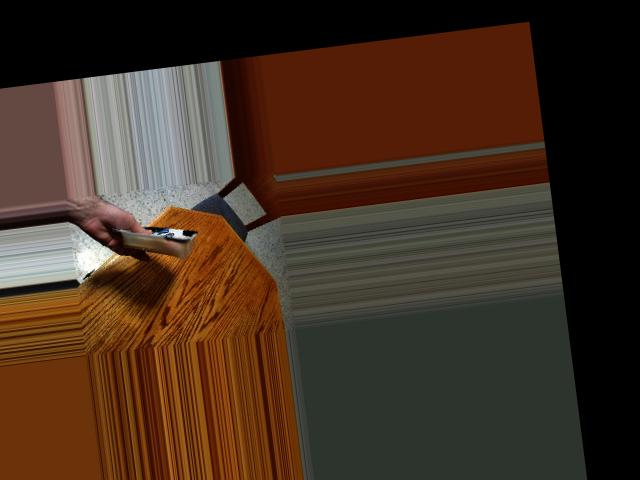cheese: (117, 202, 198, 273)
